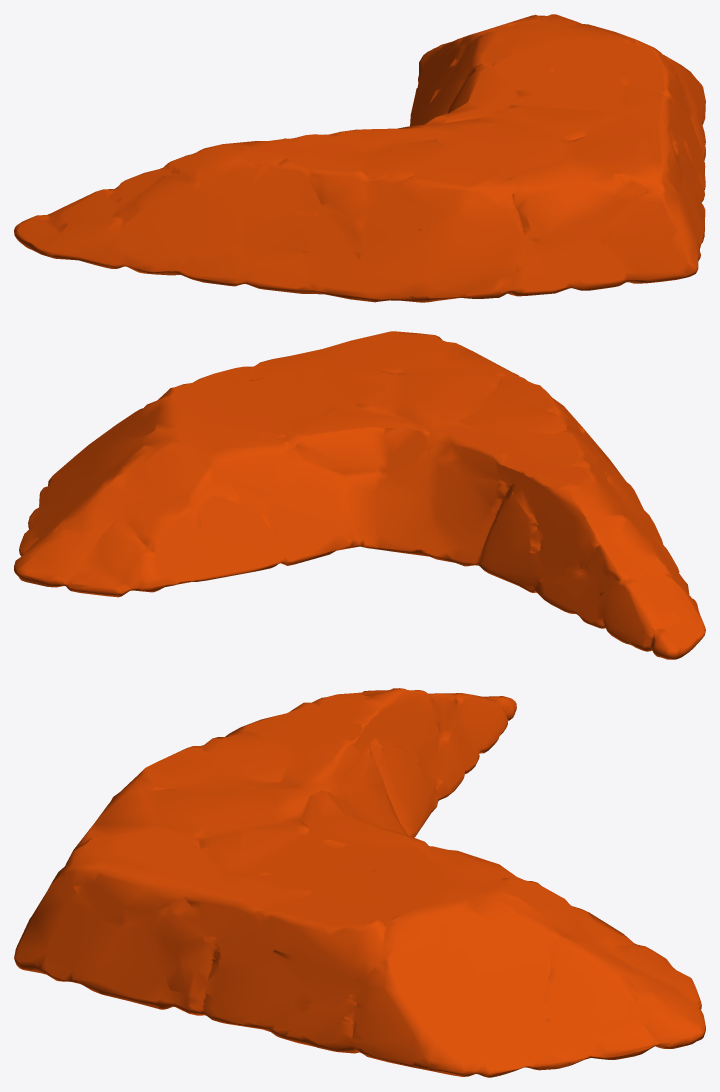
The picture shows the model from 3 angles, top to bottom: view 1: azimuth 30°, elevation 25°; view 2: azimuth 150°, elevation 25°; view 3: azimuth 270°, elevation 25°; orthographic projection. The views are drawn at different scales.
Visible parts, largest first — view 1: Mesh_52_LOD0; view 2: Mesh_52_LOD0; view 3: Mesh_52_LOD0.
Boxes of the visible parts, x1,y1,x2,y2 form: Mesh_52_LOD0: (14, 14, 705, 302); Mesh_52_LOD0: (14, 331, 705, 659); Mesh_52_LOD0: (14, 688, 705, 1077).
Size of what is drawn, in the model's own units: 8099 by 1178 by 6327.
